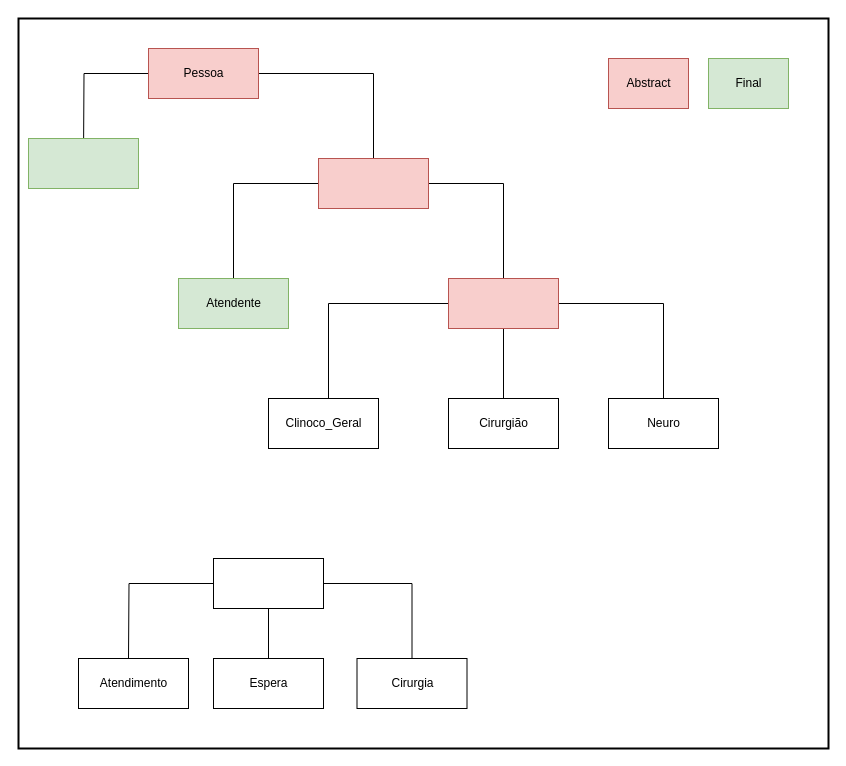
The diagram is 846 pixels wide and 766 high, and some of its shapes have lost their labels. Here are the shapes that lost their labels. From the top down, the centre of each, then its label:
At (x=83, y=163): "Paciente".
At (x=373, y=183): "Funcionario".
At (x=503, y=303): "Medico".
At (x=268, y=583): "Sala".
